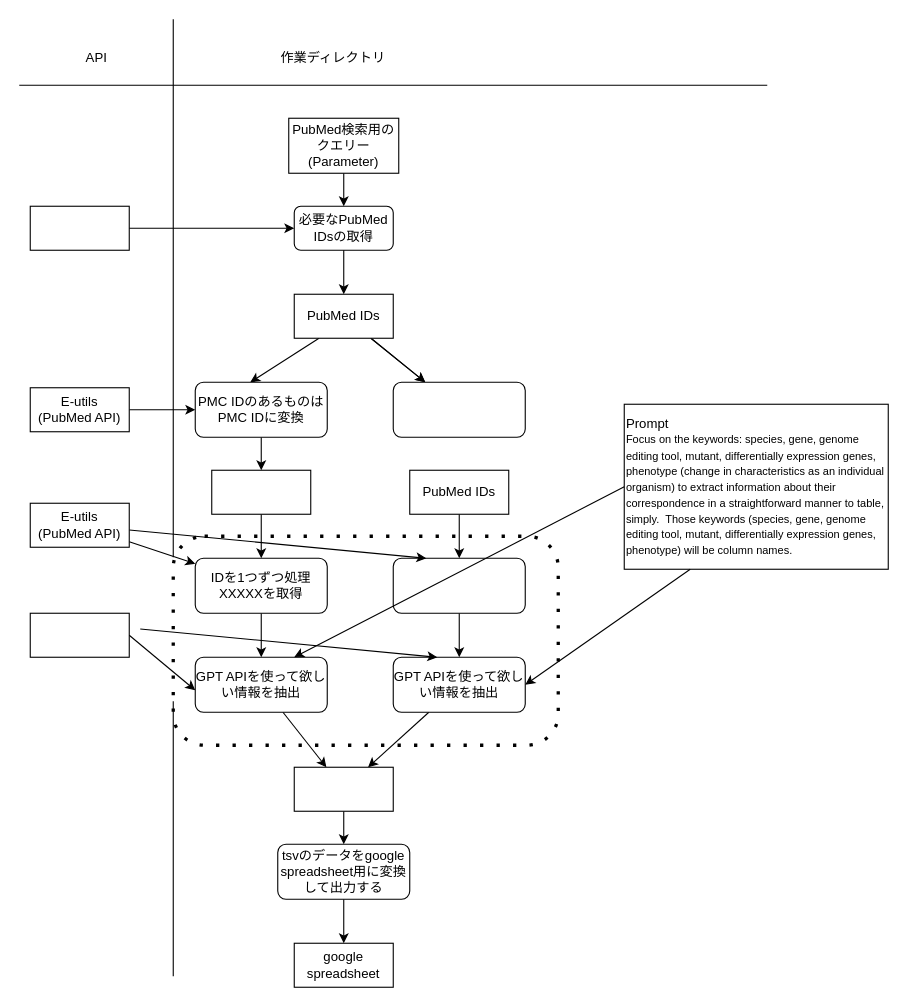
Image size: 908x1007. Some labels were removed from this diagram. The centre of each missing label's shape, as x and y in pixels:
"E-direct (PubMed API)" goes at point (79, 227).
"GPT API" goes at point (79, 634).
"IDを1つずつ処理 ABSTRACTを取得" goes at point (458, 585).
"PMC IDs" goes at point (261, 491).
"PMC IDのないものはPubMed IDで処理" goes at point (458, 409).
"取得データ（tsv?)" goes at point (343, 788).
